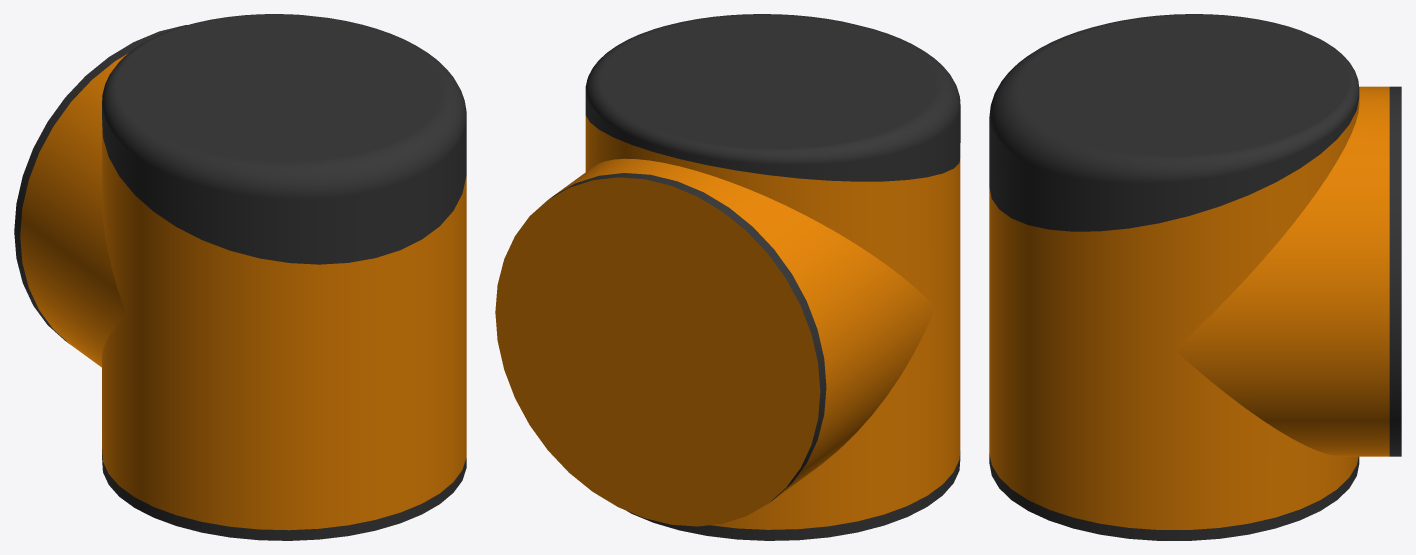
The picture shows the model from 3 angles, left to right: view 1: azimuth 30°, elevation 25°; view 2: azimuth 150°, elevation 25°; view 3: azimuth 270°, elevation 25°; orthographic projection. The views are drawn at different scales.
Parts seen in each view (by area): view 1: FBXASC194FBXASC183FBXASC195FBXASC150FBXASC194FBXASC184FBXASC; view 2: FBXASC194FBXASC183FBXASC195FBXASC150FBXASC194FBXASC184FBXASC; view 3: FBXASC194FBXASC183FBXASC195FBXASC150FBXASC194FBXASC184FBXASC.
Boxes of the visible parts, left/top/right/bottom form: FBXASC194FBXASC183FBXASC195FBXASC150FBXASC194FBXASC184FBXASC: left=14, top=14, right=466, bottom=540; FBXASC194FBXASC183FBXASC195FBXASC150FBXASC194FBXASC184FBXASC: left=495, top=14, right=960, bottom=540; FBXASC194FBXASC183FBXASC195FBXASC150FBXASC194FBXASC184FBXASC: left=989, top=14, right=1401, bottom=540.
Bounding box in the file's own units: 0.184 × 0.205 × 0.2098.
